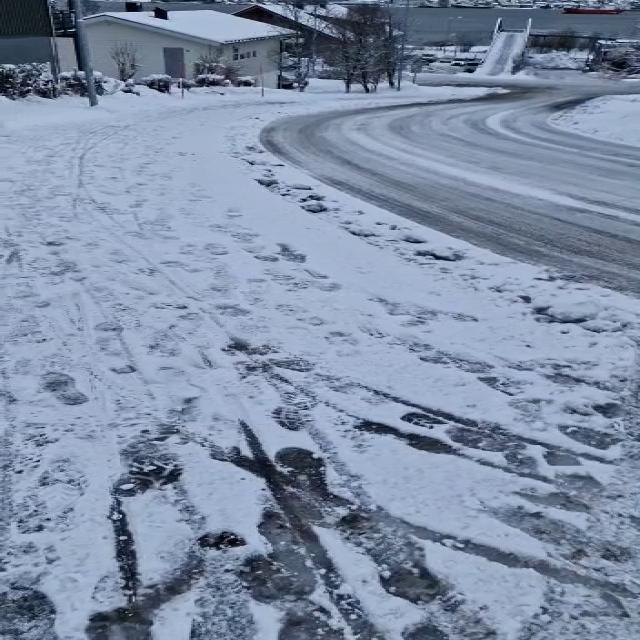path: (262, 90, 640, 292)
